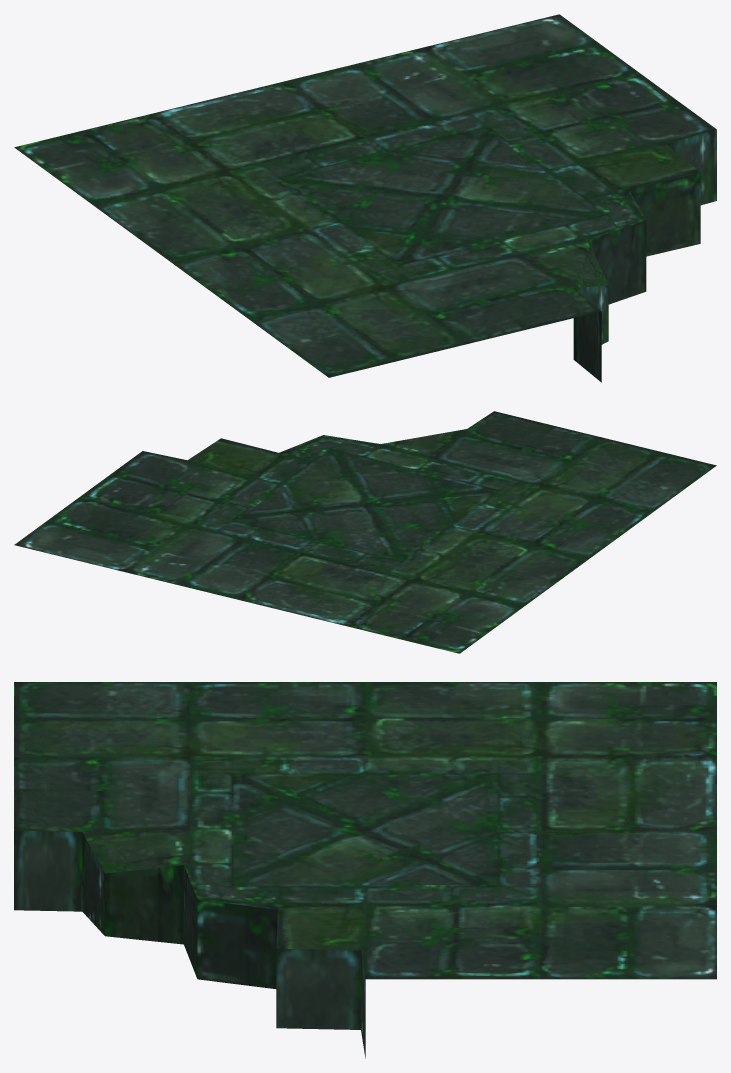
Rendered from stemple_floor_convex_noshadow_03.fbx.
3 renders of one model, top to bottom at view 1: azimuth 30°, elevation 25°; view 2: azimuth 150°, elevation 25°; view 3: azimuth 270°, elevation 25°, orthographic. The views are drawn at different scales.
Parts seen in each view (by area): view 1: sunken_tileset/sunken_floor02_mat; view 2: sunken_tileset/sunken_floor02_mat; view 3: sunken_tileset/sunken_floor02_mat.
Boxes of the visible parts, <box> form: sunken_tileset/sunken_floor02_mat: <box>14,14,716,382</box>; sunken_tileset/sunken_floor02_mat: <box>14,411,716,653</box>; sunken_tileset/sunken_floor02_mat: <box>14,682,716,1058</box>.
Bounding box in the file's own units: 4 × 0.5 × 4.
